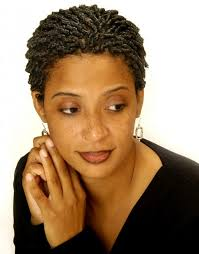black_female: (36, 41, 146, 177)
